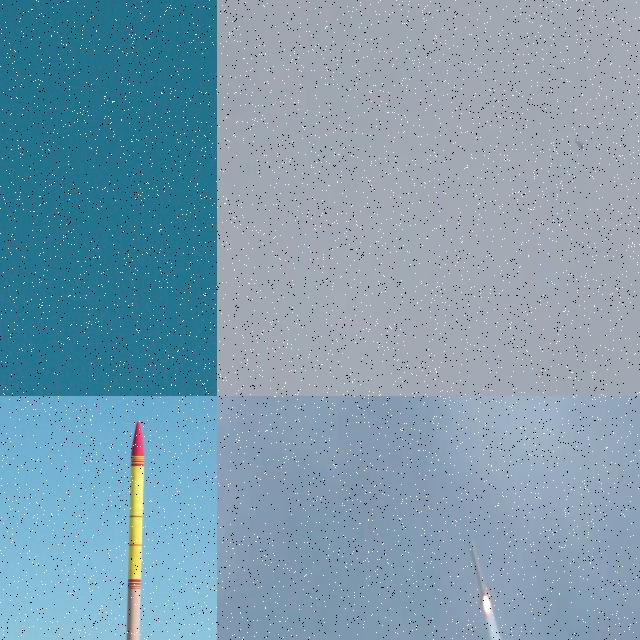Rocket: (102, 420, 157, 640), (469, 538, 492, 604), (575, 138, 583, 150)
